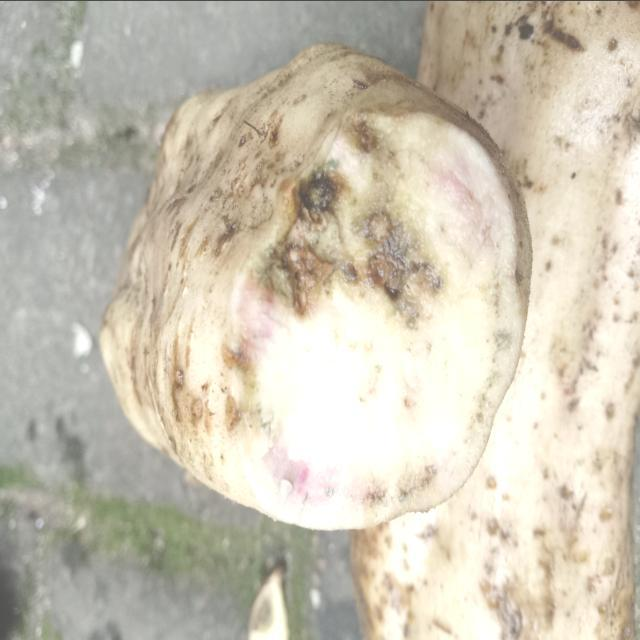Sick Sweet Potato_Tuber Rot: (224, 55, 530, 528)
